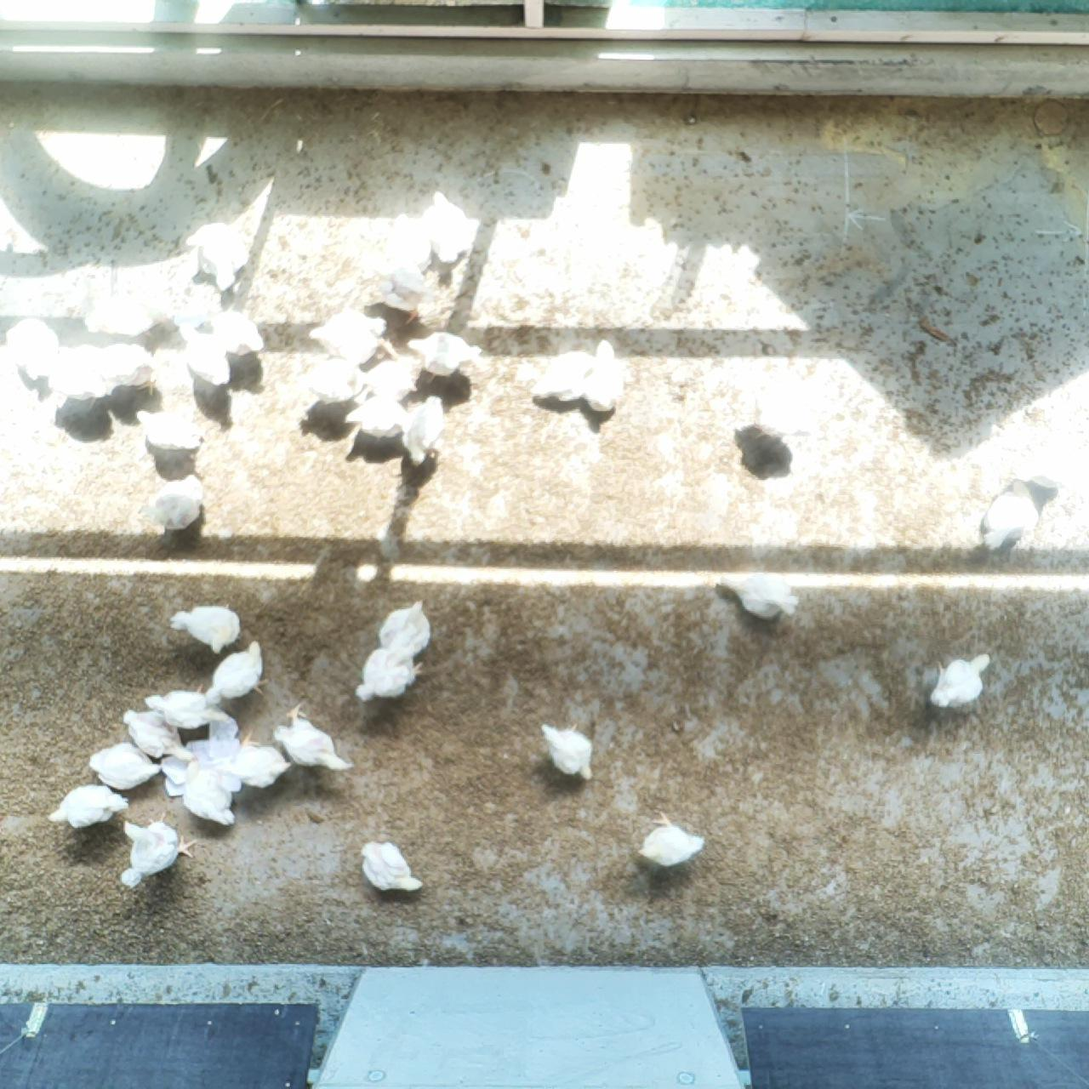chicken: (977, 473, 1058, 557), (274, 703, 352, 778), (365, 249, 438, 327), (115, 819, 194, 889), (308, 307, 400, 367), (186, 218, 256, 292), (422, 190, 473, 281), (213, 735, 290, 794), (401, 332, 482, 388), (49, 343, 114, 412), (203, 639, 269, 705), (717, 569, 802, 620), (173, 319, 232, 392), (178, 756, 237, 828), (530, 349, 597, 412), (121, 709, 197, 764), (536, 724, 602, 787), (143, 686, 235, 731), (636, 811, 706, 869), (354, 646, 425, 703), (88, 741, 164, 792), (293, 354, 370, 404), (135, 406, 205, 459), (926, 652, 992, 708), (344, 392, 416, 443), (45, 785, 128, 829), (5, 318, 60, 384), (748, 385, 815, 439), (580, 338, 626, 415), (359, 840, 423, 895), (171, 606, 242, 655), (95, 342, 157, 398), (400, 393, 446, 468), (150, 474, 210, 531), (362, 352, 423, 406), (382, 212, 433, 275), (205, 308, 266, 359), (378, 601, 432, 657)
